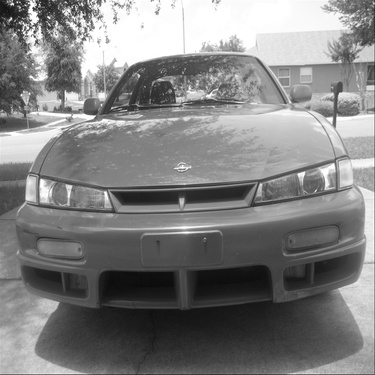car: (16, 46, 373, 313), (206, 84, 223, 104)
